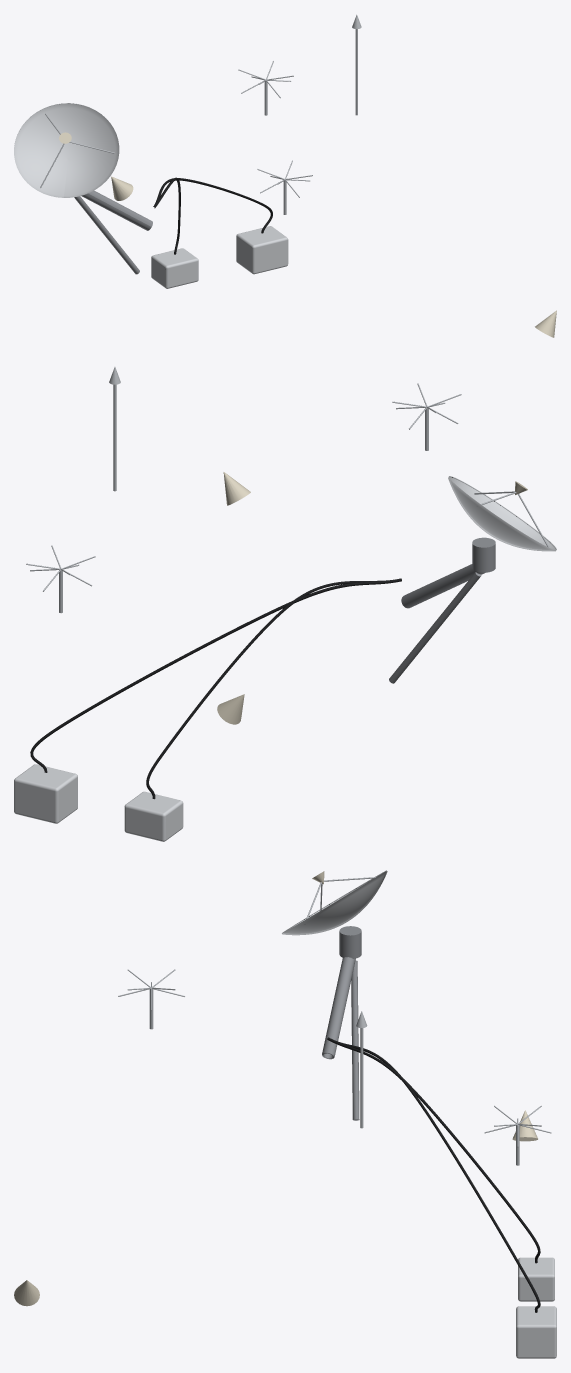
File: apollo-antenna.glb
3 renders of one model, top to bottom at view 1: azimuth 30°, elevation 25°; view 2: azimuth 150°, elevation 25°; view 3: azimuth 270°, elevation 25°, orthographic. The views are drawn at different scales.
Parts seen in each view (by area): view 1: REFLECTOR_Mylar_aluminizado, TRANSCEIVER_Mylar_aluminizado, RF_AMPLIFIER_Mylar_aluminizado, ANTENNA_GIMBAL_Aluminio_anodizado_gris, VHF_ANTENNAS_Aluminio_satinado, RF_AMPLIFIER, VHF_ANTENNAS; view 2: TRANSCEIVER_Mylar_aluminizado, ANTENNA_GIMBAL_Aluminio_anodizado_gris, REFLECTOR_Mylar_aluminizado, RF_AMPLIFIER, RF_AMPLIFIER_Mylar_aluminizado, VHF_ANTENNAS_Aluminio_satinado, VHF_ANTENNAS; view 3: ANTENNA_GIMBAL_Aluminio_anodizado_gris, REFLECTOR_Mylar_aluminizado, TRANSCEIVER_Mylar_aluminizado, RF_AMPLIFIER, RF_AMPLIFIER_Mylar_aluminizado, VHF_ANTENNAS_Aluminio_satinado, VHF_ANTENNAS.
Part boxes in pixels (bbox=[...]): REFLECTOR_Mylar_aluminizado: bbox=[14, 103, 119, 197]; TRANSCEIVER_Mylar_aluminizado: bbox=[236, 226, 288, 274]; RF_AMPLIFIER_Mylar_aluminizado: bbox=[151, 248, 198, 288]; ANTENNA_GIMBAL_Aluminio_anodizado_gris: bbox=[74, 190, 152, 274]; VHF_ANTENNAS_Aluminio_satinado: bbox=[238, 14, 361, 214]; RF_AMPLIFIER: bbox=[153, 177, 272, 254]; VHF_ANTENNAS: bbox=[111, 176, 556, 337]; TRANSCEIVER_Mylar_aluminizado: bbox=[14, 764, 77, 823]; ANTENNA_GIMBAL_Aluminio_anodizado_gris: bbox=[389, 537, 495, 683]; REFLECTOR_Mylar_aluminizado: bbox=[448, 476, 556, 551]; RF_AMPLIFIER: bbox=[30, 578, 401, 799]; RF_AMPLIFIER_Mylar_aluminizado: bbox=[124, 791, 183, 841]; VHF_ANTENNAS_Aluminio_satinado: bbox=[26, 367, 461, 613]; VHF_ANTENNAS: bbox=[217, 472, 250, 724]; ANTENNA_GIMBAL_Aluminio_anodizado_gris: bbox=[322, 926, 361, 1120]; REFLECTOR_Mylar_aluminizado: bbox=[282, 870, 387, 935]; TRANSCEIVER_Mylar_aluminizado: bbox=[516, 1306, 556, 1358]; RF_AMPLIFIER: bbox=[327, 1037, 540, 1312]; RF_AMPLIFIER_Mylar_aluminizado: bbox=[518, 1257, 554, 1301]; VHF_ANTENNAS_Aluminio_satinado: bbox=[118, 969, 551, 1165]; VHF_ANTENNAS: bbox=[14, 1110, 537, 1306].
Bounding box in the file's own units: 2.89 × 2.07 × 2.92.
